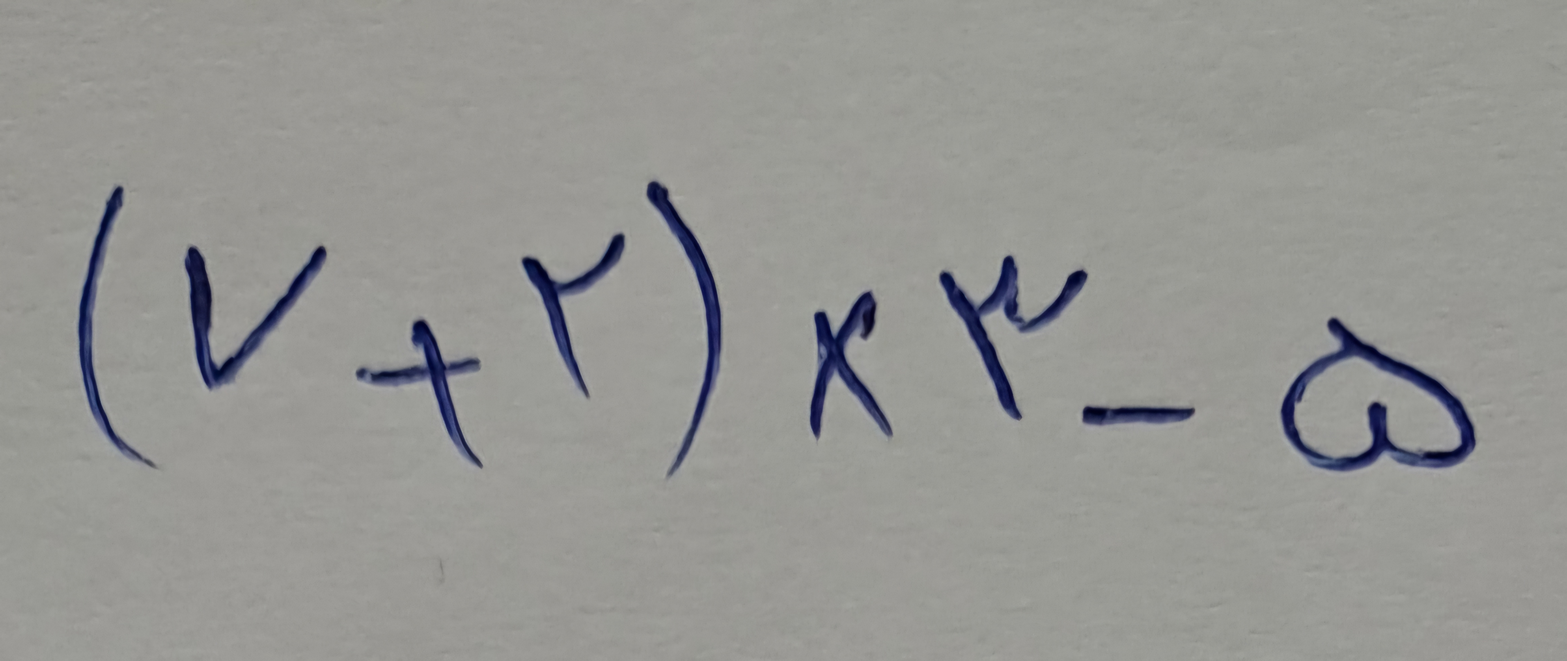character: (1282, 316, 1472, 474), (61, 186, 161, 463), (937, 255, 1073, 425), (182, 243, 325, 396), (357, 313, 497, 466), (647, 182, 720, 469), (525, 233, 644, 398), (797, 290, 891, 442), (1068, 408, 1198, 452)
